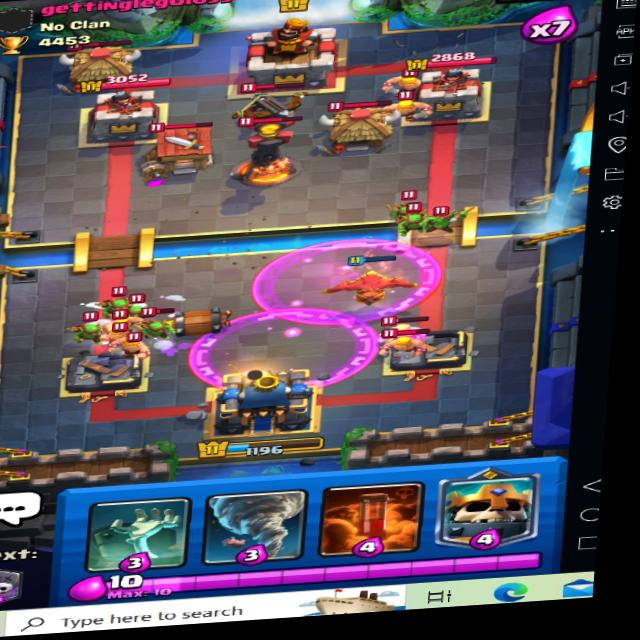barbarian: (381, 329, 435, 358), (382, 66, 432, 97), (96, 321, 154, 347), (107, 328, 157, 356), (380, 314, 437, 338), (391, 94, 436, 122)
barbarian-barrel: (159, 301, 241, 339)
barbarian-hut: (140, 115, 220, 174)
goblin-hut: (316, 95, 407, 159), (58, 34, 138, 90)
inferno-tower: (234, 111, 308, 184)
rage: (246, 223, 448, 329), (190, 289, 385, 394)
spear-goblin: (424, 208, 463, 241), (70, 309, 111, 339), (396, 205, 431, 239), (390, 188, 426, 220), (119, 295, 161, 321), (99, 289, 140, 315), (138, 315, 173, 340)
x-bow: (218, 71, 314, 137)
